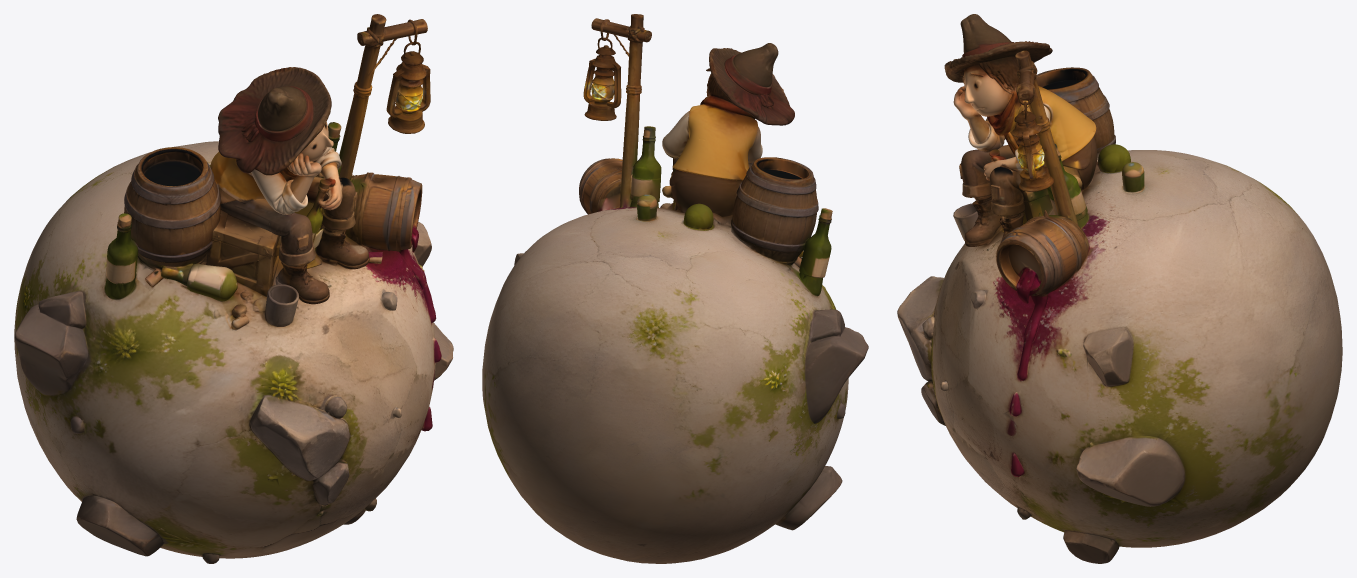
Rendered from drunkard.glb.
The picture shows the model from 3 angles, left to right: view 1: azimuth 30°, elevation 25°; view 2: azimuth 150°, elevation 25°; view 3: azimuth 270°, elevation 25°; orthographic projection. The views are drawn at different scales.
Parts seen in each view (by area): view 1: node_0; view 2: node_0; view 3: node_0.
Boxes of the visible parts, left/top/right/bottom form: node_0: left=14, top=14, right=453, bottom=563; node_0: left=482, top=14, right=868, bottom=563; node_0: left=897, top=14, right=1342, bottom=563.
Size of the model in its own units: 0.8747 by 1.05 by 0.8168.
1 material, 1 textured.
